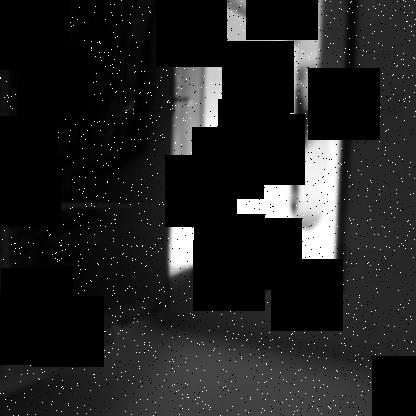Porte: (154, 1, 358, 295)
